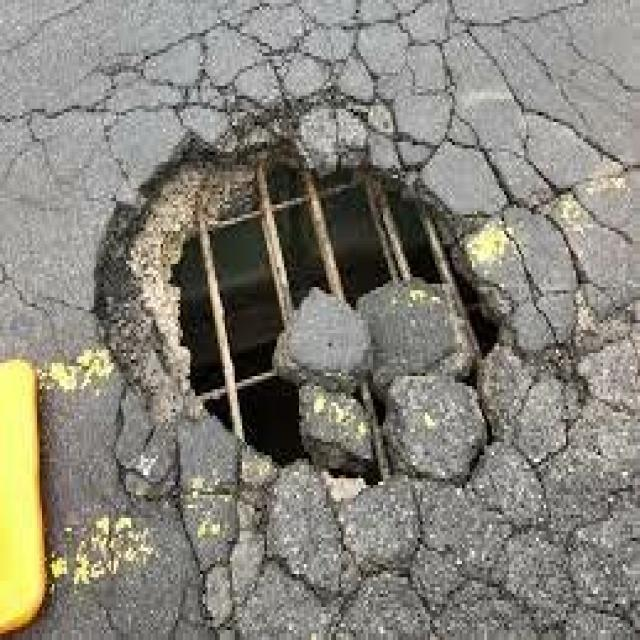Pothole: (59, 59, 574, 594)
